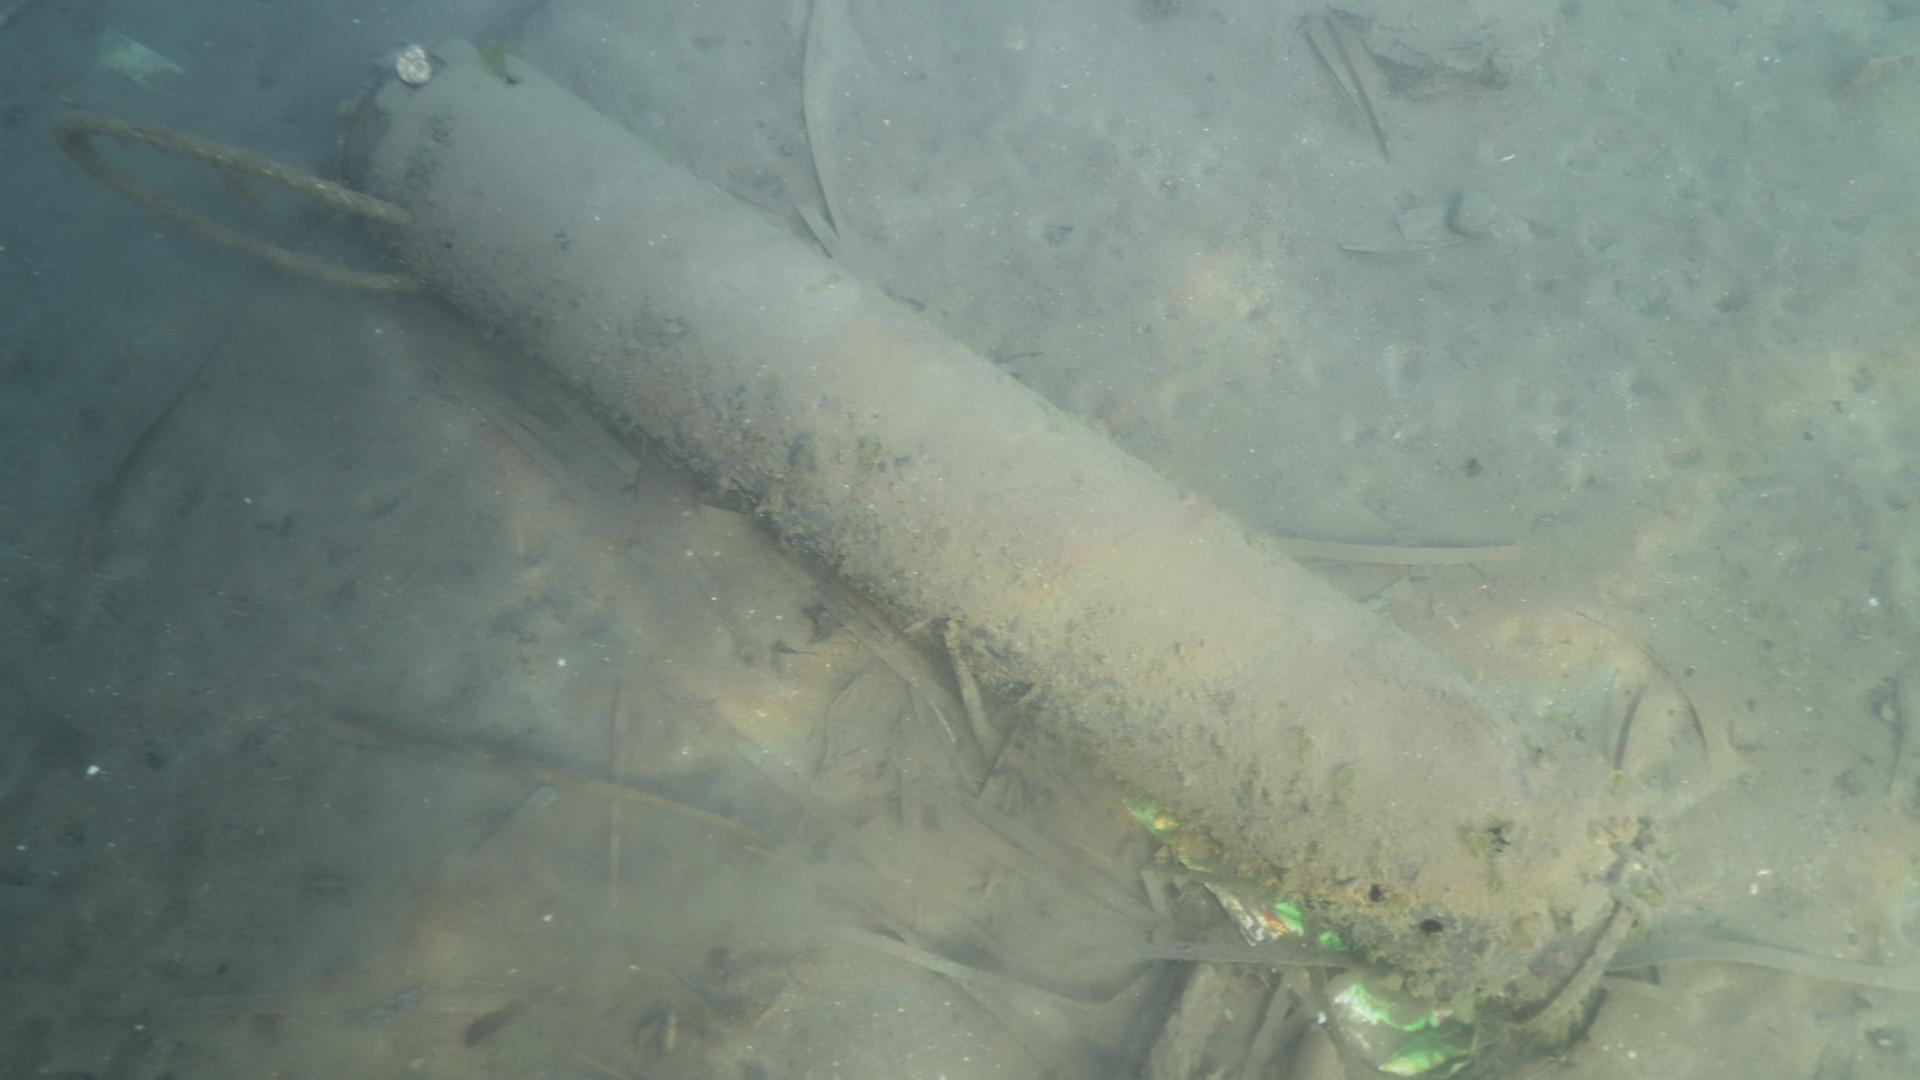eel fish trap: (340, 37, 1652, 993)
rope: (49, 105, 415, 293)
